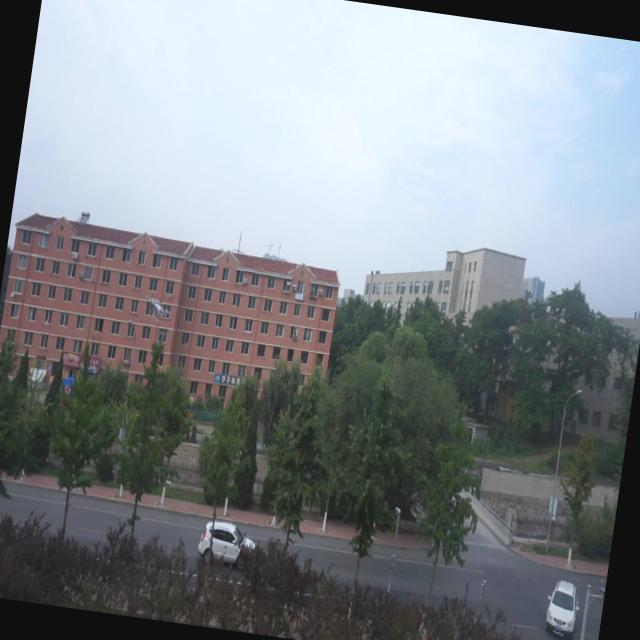drone: (145, 294, 172, 324)
